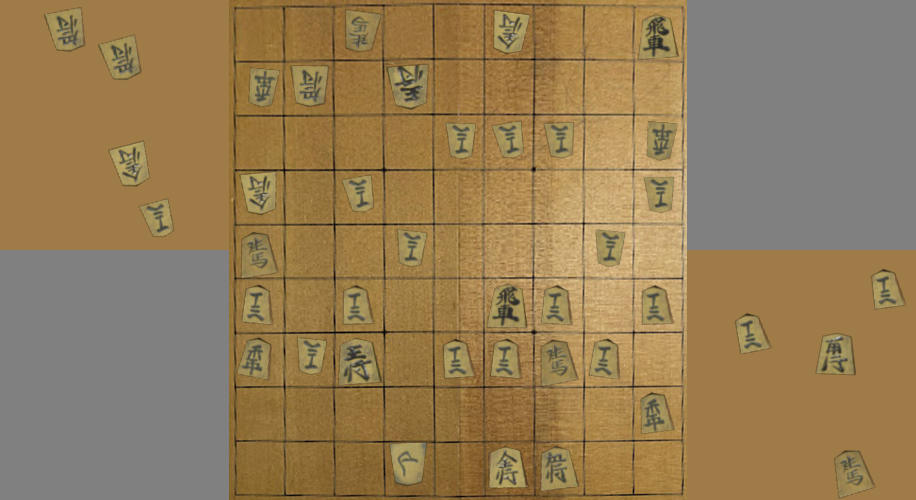A: (340, 339, 379, 384), (640, 15, 678, 58), (241, 233, 278, 277), (488, 285, 525, 327), (542, 341, 577, 385), (541, 448, 577, 490), (490, 448, 526, 487), (238, 340, 270, 379), (642, 394, 673, 433), (642, 286, 673, 324), (444, 341, 474, 379), (491, 340, 521, 378), (542, 286, 571, 324), (590, 340, 618, 379), (343, 287, 372, 324), (243, 286, 271, 324)
B: (387, 65, 427, 109), (240, 173, 276, 215), (390, 444, 426, 485), (494, 11, 529, 53), (292, 66, 328, 106), (346, 10, 380, 51), (648, 122, 677, 160), (343, 176, 373, 212), (493, 122, 523, 157), (250, 69, 278, 106), (597, 230, 625, 266), (398, 231, 426, 266), (298, 339, 326, 374), (645, 178, 673, 212), (545, 123, 573, 156), (448, 124, 475, 158)
C: (834, 451, 874, 498), (816, 334, 855, 375), (737, 314, 771, 353), (872, 270, 904, 309)
D: (100, 35, 141, 79), (110, 142, 149, 186), (45, 8, 84, 51), (141, 200, 173, 236)
